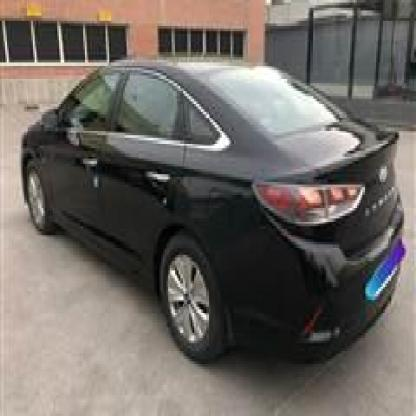Car: (26, 49, 406, 377)
